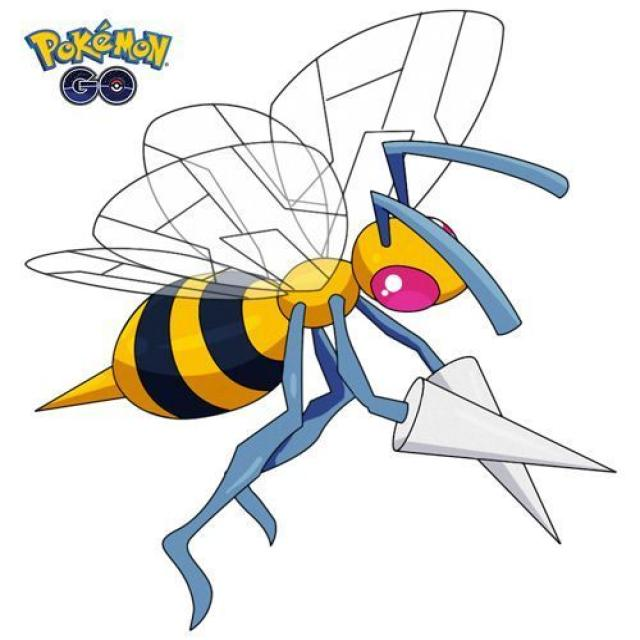Beedrill: (50, 110, 615, 599)
